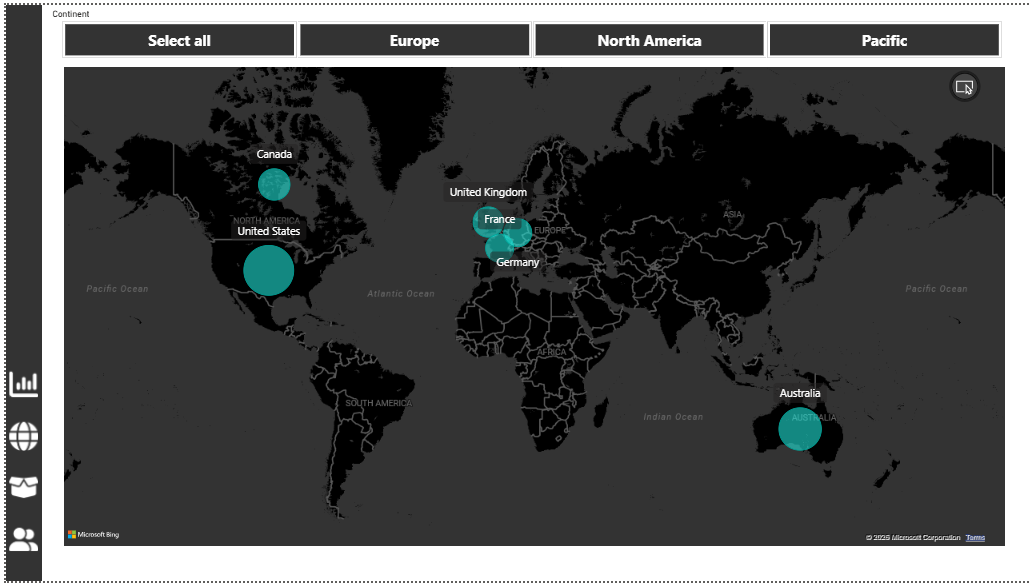

What the dashboard file says about the page in this screenshot:
{"tool":"powerbi","page":{"name":"Map","canvas":[1280,720],"ordinal":2},"visuals":[{"type":"shape","box":[0,0,45,720.6],"z":0},{"type":"actionButton","box":[0,450,44.5,48.5],"z":0,"group":"g1"},{"type":"map","fields":{"Category":["Territory Lookup.Country"],"Size":["Measure Table.Total Orders"]},"box":[66.9,72.7,1186.2,647.3],"z":1000},{"type":"actionButton","box":[0,514.7,44.5,48.5],"z":1000,"group":"g1"},{"type":"slicer","fields":{"Values":["Territory Lookup.Continent"]},"box":[45,0,1223.1,72.7],"z":2000},{"type":"actionButton","box":[0,579.3,44.5,48.5],"z":2000,"group":"g1"},{"type":"group","id":"g1","title":"Navigation Buttons","box":[0,450,44.5,242.5],"z":3000},{"type":"actionButton","box":[0,644,44.5,48.5],"z":3000,"group":"g1"}]}

Visuals, with their boxes in screenshot pixels (x1, y1, x2, y2):
shape: 3/3/38/575
actionButton: 3/360/38/398
map - Territory Lookup.Country x Measure Table.Total Orders: 56/60/997/574
actionButton: 3/411/38/450
slicer - Territory Lookup.Continent: 38/3/1009/60
actionButton: 3/462/38/501
"Navigation Buttons" group: 3/360/38/552
actionButton: 3/514/38/552
